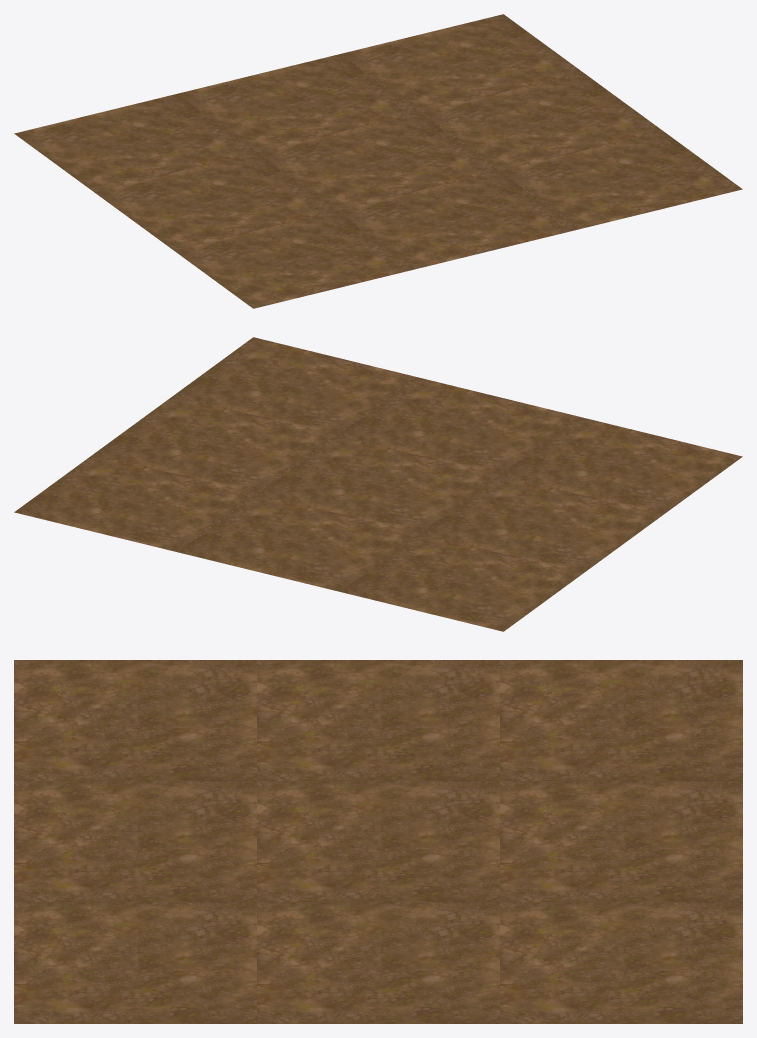
Rendered from startingField.glb.
3 renders of one model, top to bottom at view 1: azimuth 30°, elevation 25°; view 2: azimuth 150°, elevation 25°; view 3: azimuth 270°, elevation 25°, orthographic. The views are drawn at different scales.
Parts seen in each view (by area): view 1: field, field.004, field.001, field.002, field.006, field.003, field.005, field.008, field.007; view 2: field.001, field, field.004, field.002, field.005, field.006, field.008, field.003, field.007; view 3: field, field.001, field.002, field.003, field.004, field.005, field.006, field.007, field.008.
Part boxes in pixels (x1,y1,x2,y2): field: [257, 112, 499, 210]; field.004: [420, 72, 662, 170]; field.001: [94, 152, 336, 250]; field.002: [337, 171, 579, 268]; field.006: [177, 54, 419, 151]; field.003: [174, 210, 415, 308]; field.005: [500, 131, 742, 228]; field.008: [341, 14, 582, 112]; field.007: [14, 94, 256, 191]; field.001: [420, 475, 662, 573]; field: [257, 435, 499, 533]; field.004: [94, 395, 336, 493]; field.002: [337, 377, 579, 474]; field.005: [174, 337, 415, 435]; field.006: [177, 494, 419, 591]; field.008: [14, 454, 256, 551]; field.003: [500, 417, 742, 514]; field.007: [341, 533, 582, 631]; field: [257, 781, 499, 902]; field.001: [257, 660, 499, 781]; field.002: [14, 781, 256, 902]; field.003: [14, 660, 256, 781]; field.004: [257, 902, 499, 1023]; field.005: [14, 902, 256, 1023]; field.006: [500, 781, 742, 902]; field.007: [500, 660, 742, 781]; field.008: [500, 902, 742, 1023].
Bounding box in the file's own units: 119 × 0 × 100.
1 material, 1 textured.
